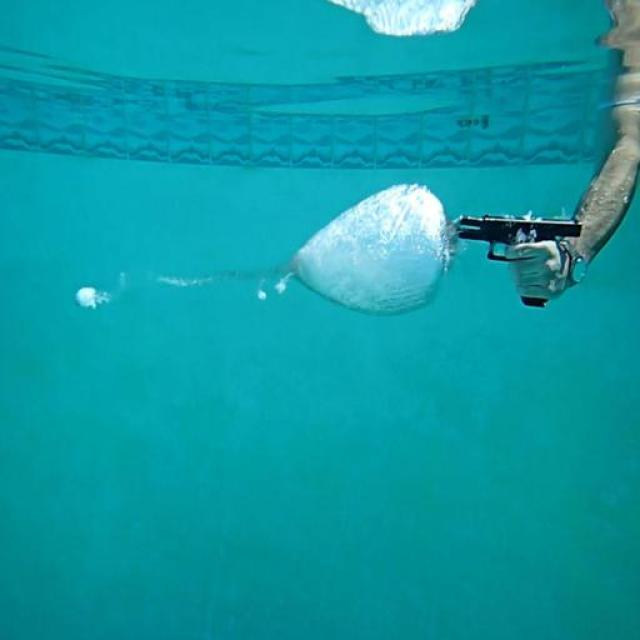pistol: (457, 202, 581, 312)
